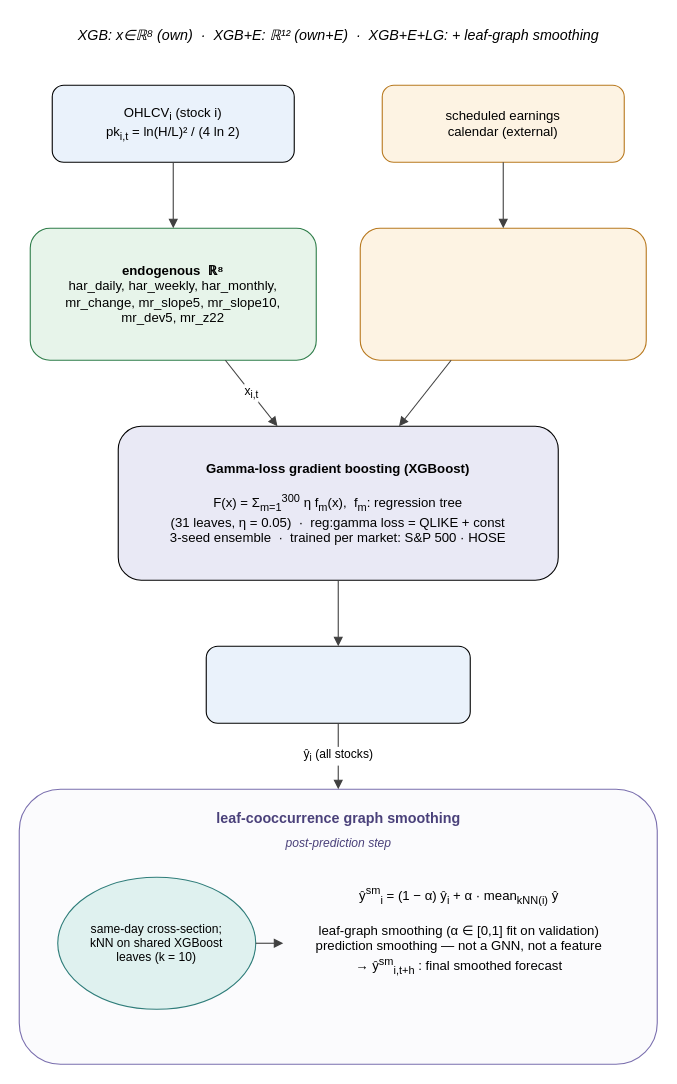
Some shapes in this 677 by 1084 pixel diagram are drawn without their labels. The centre of each missing label's shape, as x and y in pixels:
earnings ℝ⁴ earn_prox, earn_soon, earn_pre, earn_post: point 502,293
per-stock forecast σ̂ 2 i,t+h h ∈ {1, 5, 10, 22}: point 337,684
